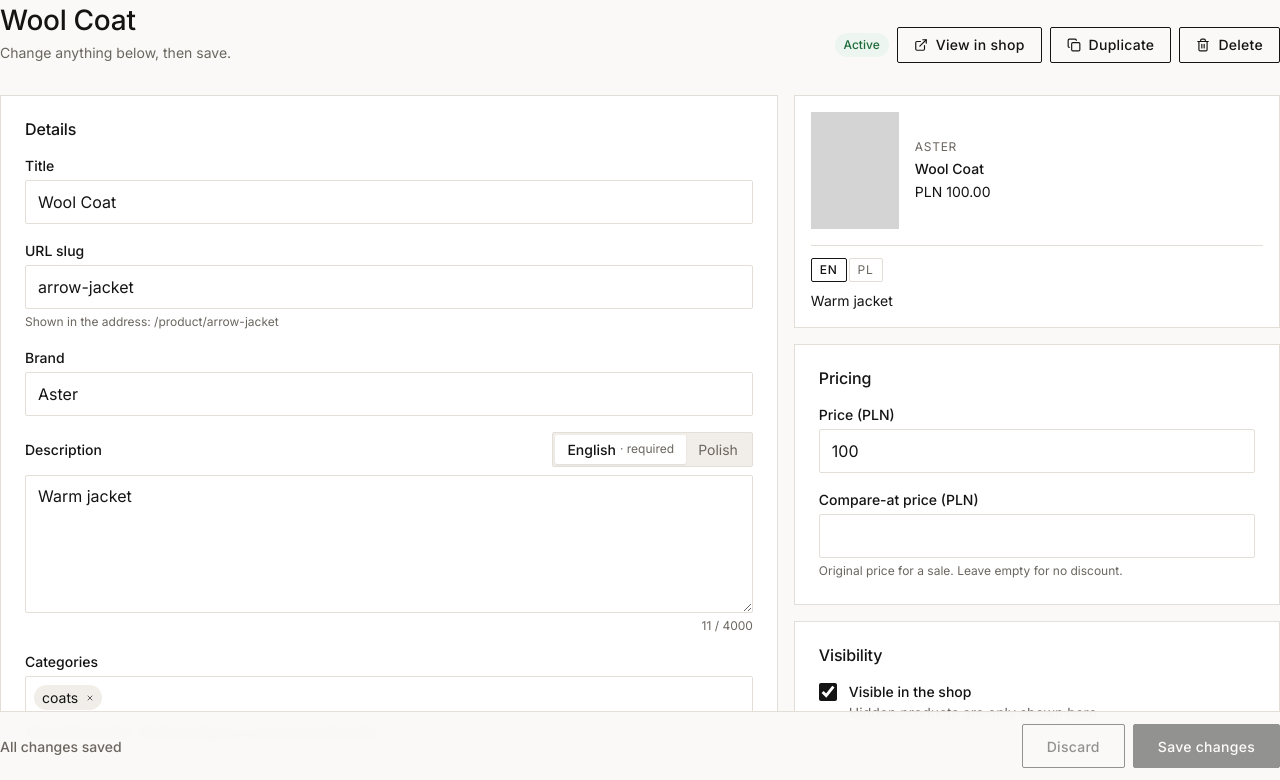
EditProduct › tracks unsaved changes, saves them and stays on the page
Expected: the text "All changes saved" is shown, [0,736,122,756]
Expected: the button "Save changes" is disabled, [1133,724,1279,768]
Replace the text in the number field labelled "Price (PLN)" with "89.5" at (1037, 451), box [819,429,1255,473]
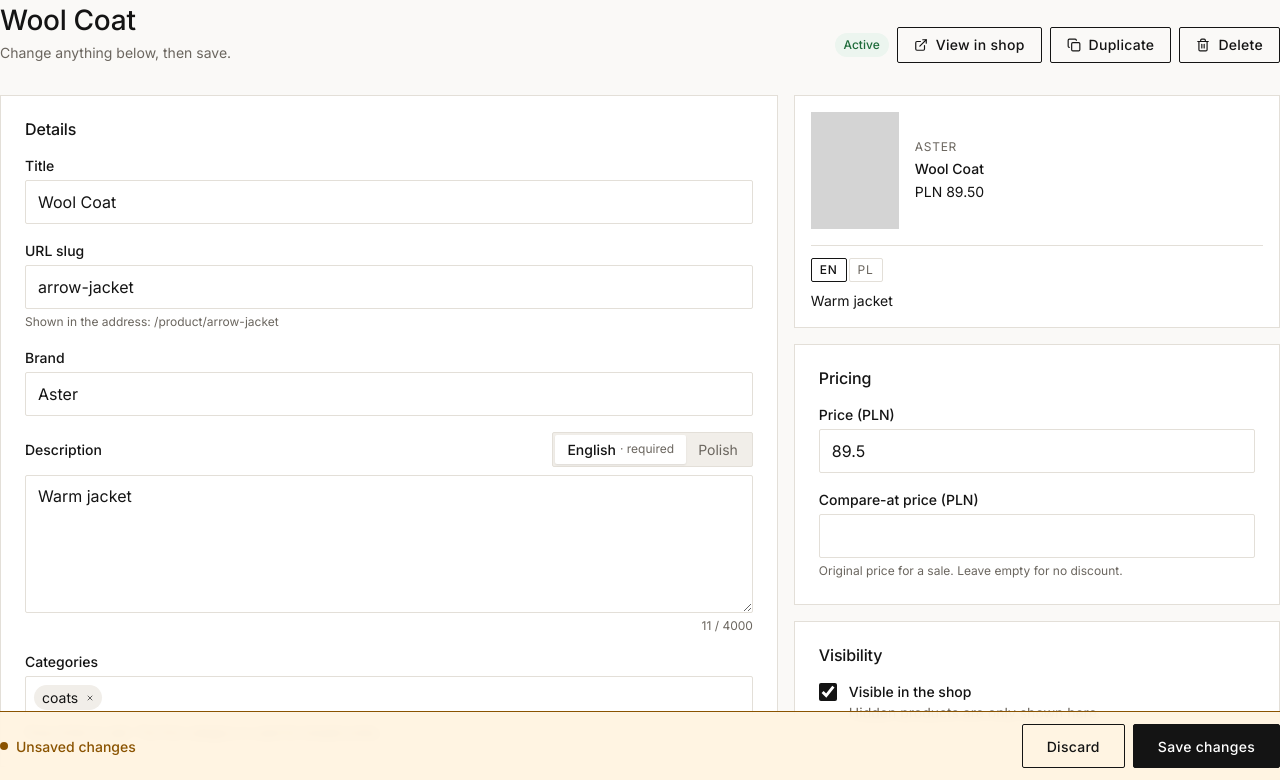
Result: the text "Unsaved changes" is shown at [0,736,136,756]
Click the button "Save changes" at (1206, 746), box [1133,724,1279,768]
(page scrolled)
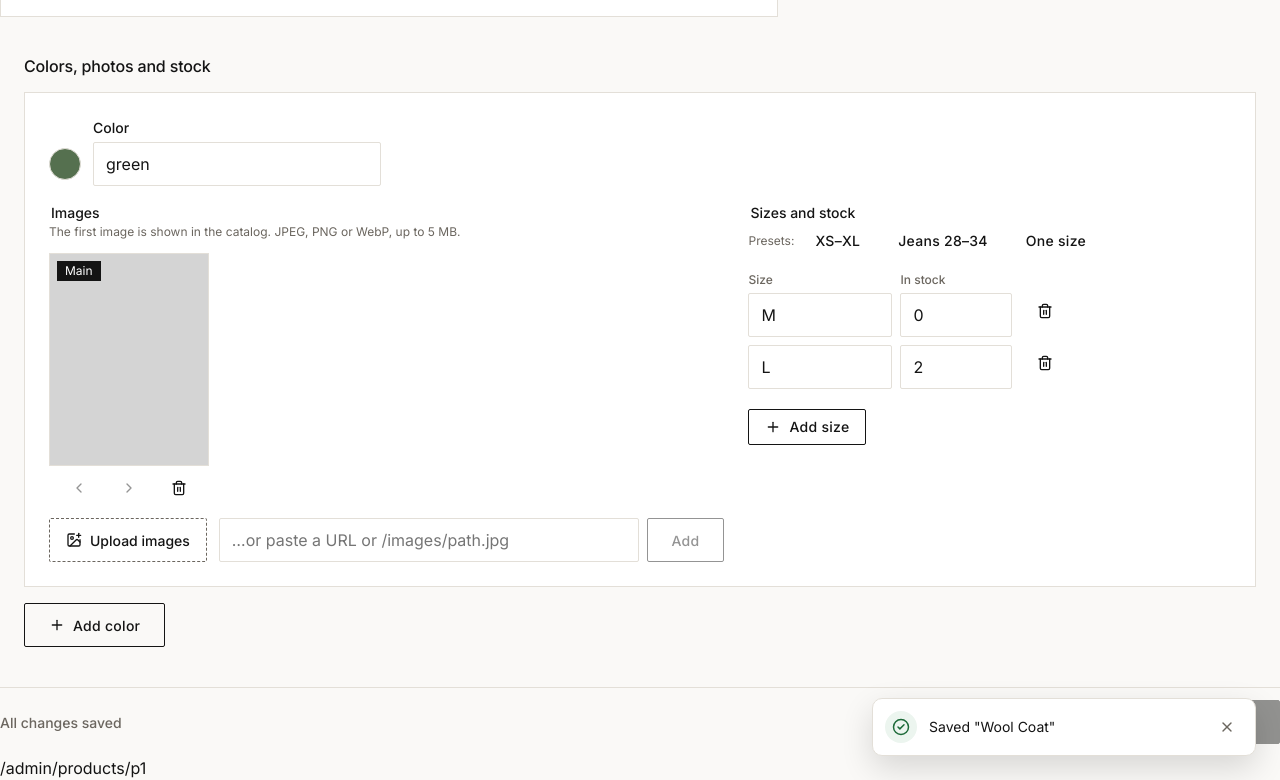
Expected: the text with test id "path" reads "/admin/products/p1", [0,758,146,778]
Result: the text "Saved \"Wool Coat\"" is shown at [929,718,1055,735]
Result: the text "All changes saved" is shown at [0,712,122,733]
